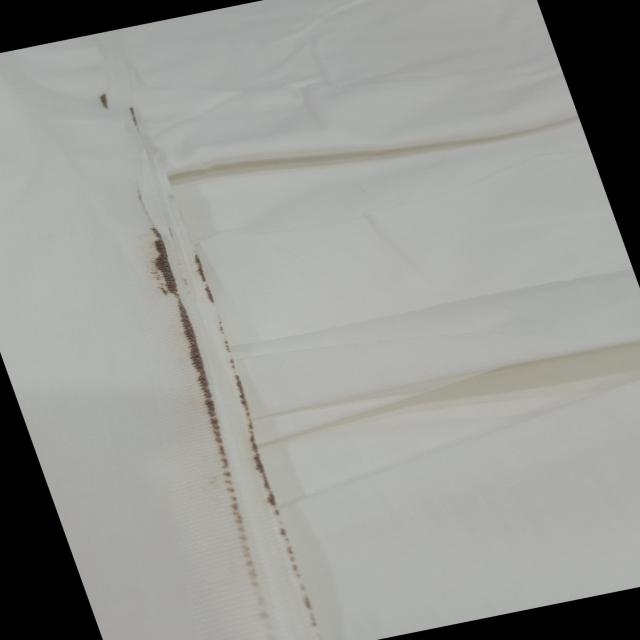stain: (62, 77, 355, 640)
